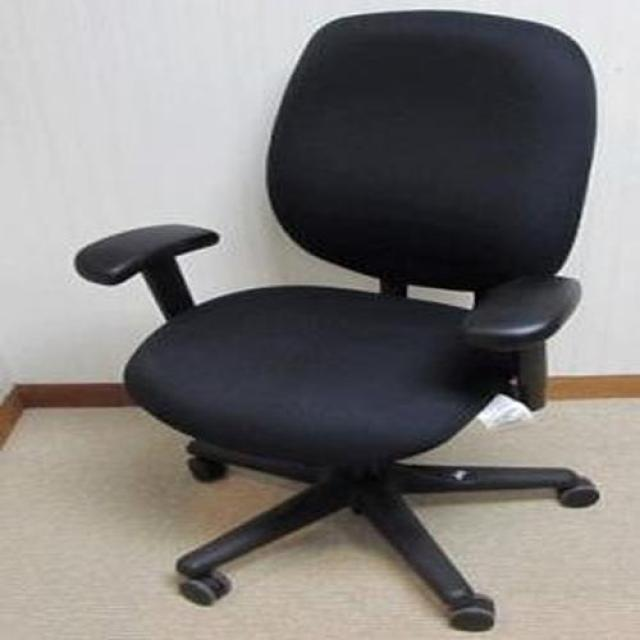swivelchair: (81, 12, 598, 632)
